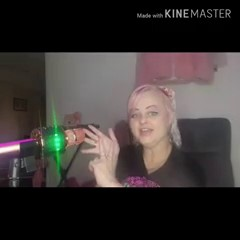V: (78, 121, 123, 184)
